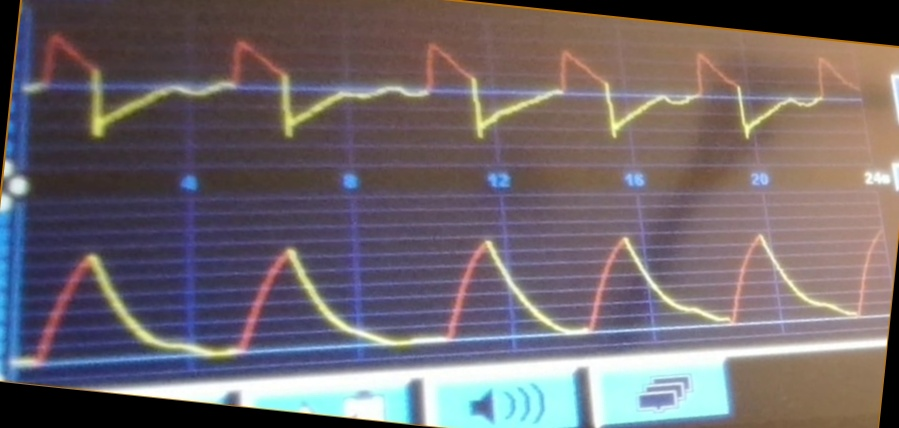Ineffective_effort Flow: (28, 32, 858, 144)
Ineffective_effort Volume: (22, 230, 868, 362)
